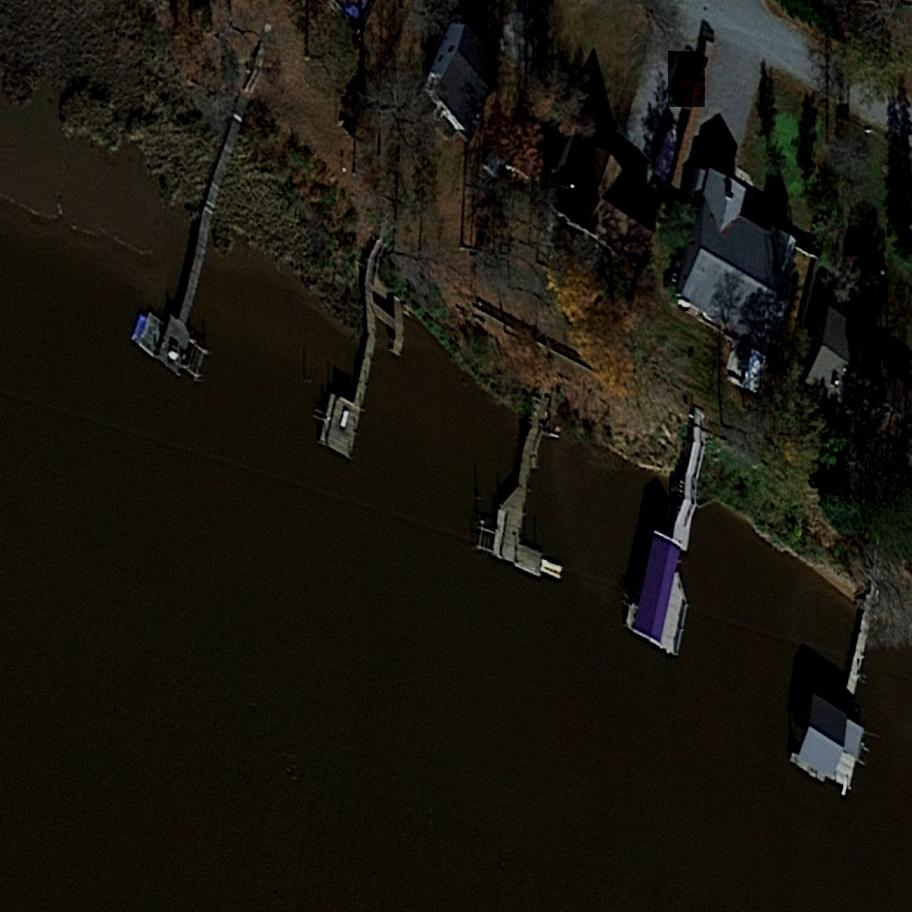small-vehicle: (666, 52, 709, 108)
